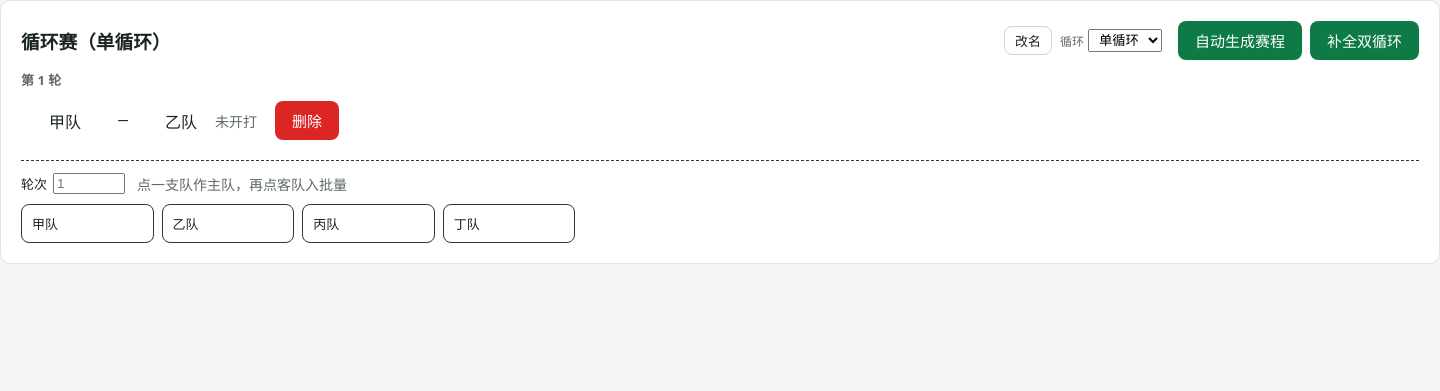
Scenario: ScheduleTab 小组/循环排赛草稿态 › 本轮已有比赛或已在本批的队不能作主队；已在本批的队作客队置灰
Click the button "甲队" at [87, 224], box [21,204,154,243]
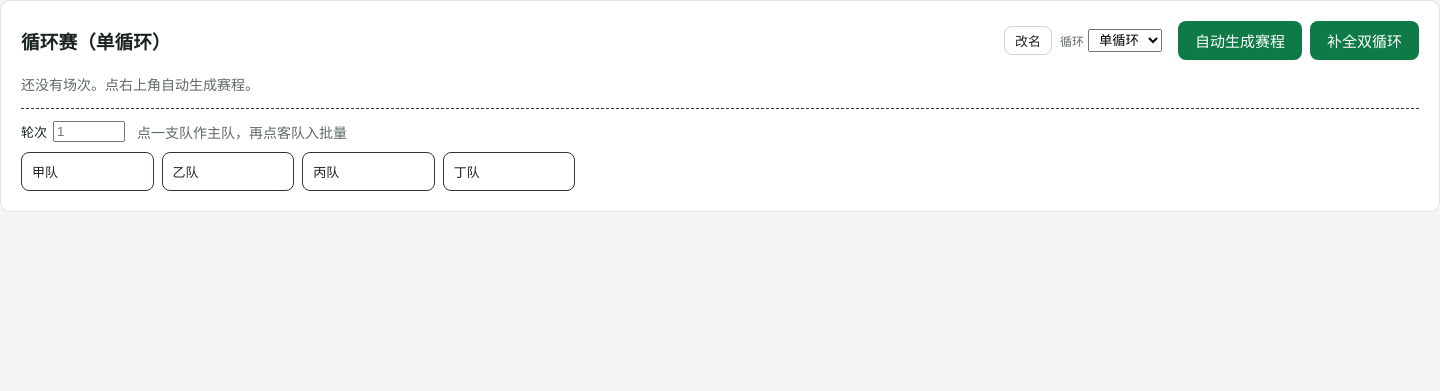
Click the button "丙队" at [368, 172], box [302,152,435,191]
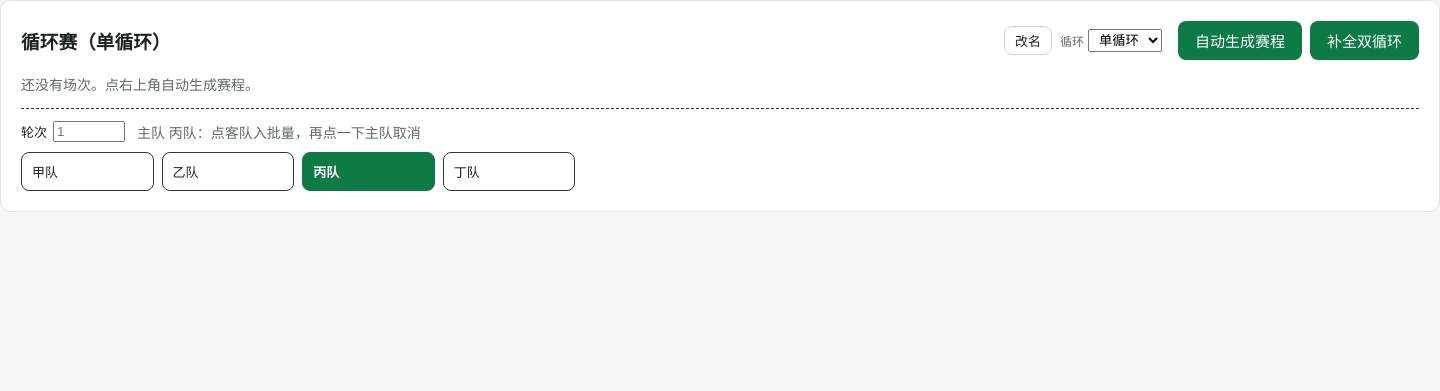
Click the button "丁队" at [509, 172], box [443,152,575,191]
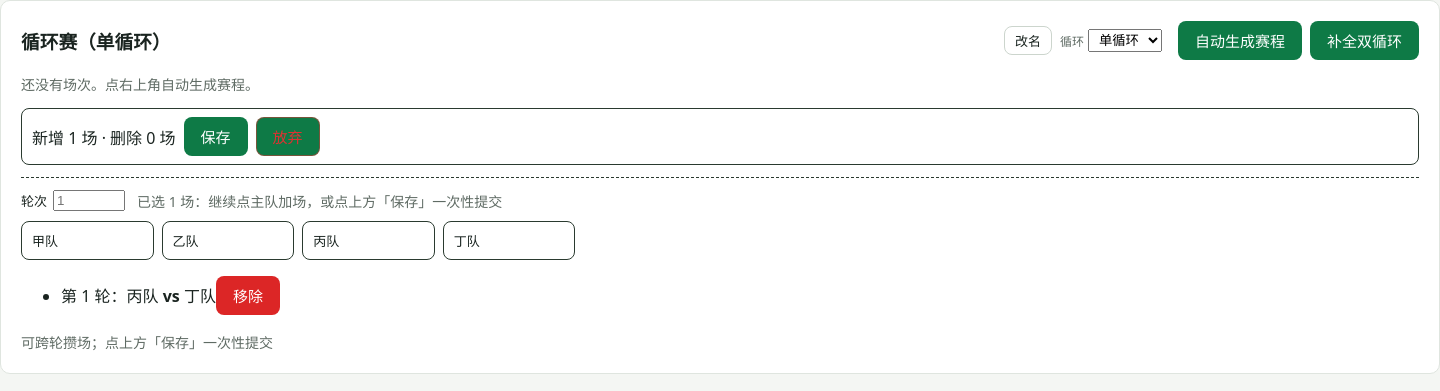
Click the button "甲队" at [87, 240], box [21,221,154,260]
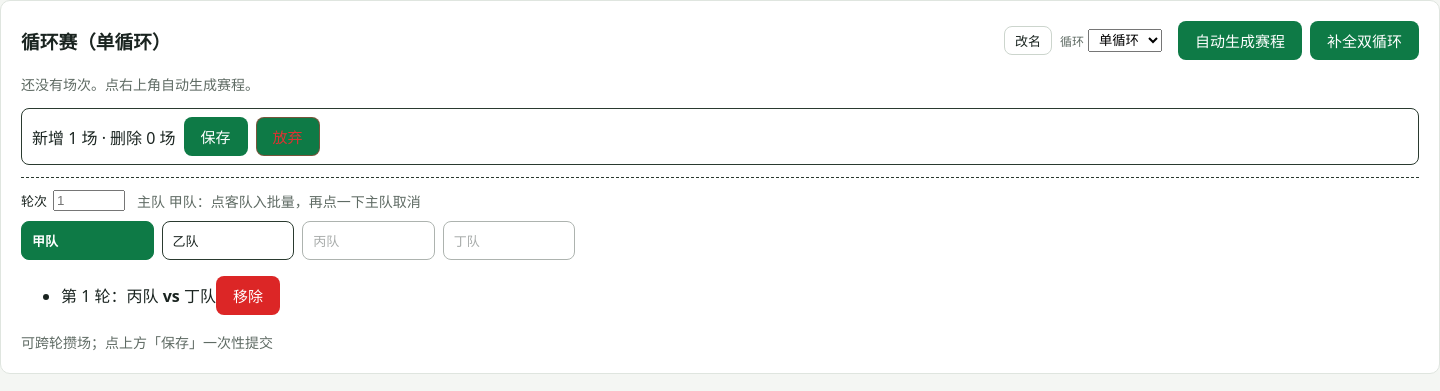
Expected: the button "丙队" is disabled, [302,221,435,260]
